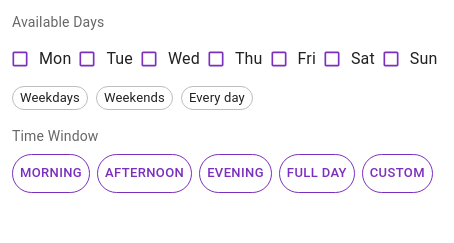
Test case: AvailabilitySelector component › shows "Every day selected" summary when all 7 days checked
What coordinates should you click on to do the following:
click the button "Every day"
I would click on:
 (217, 98)
Its box is [181,86,253,110].
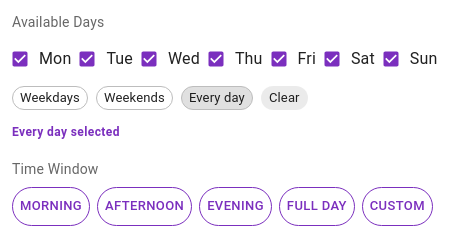
Result: the text "Every day selected" is shown at [12,125,120,139]
